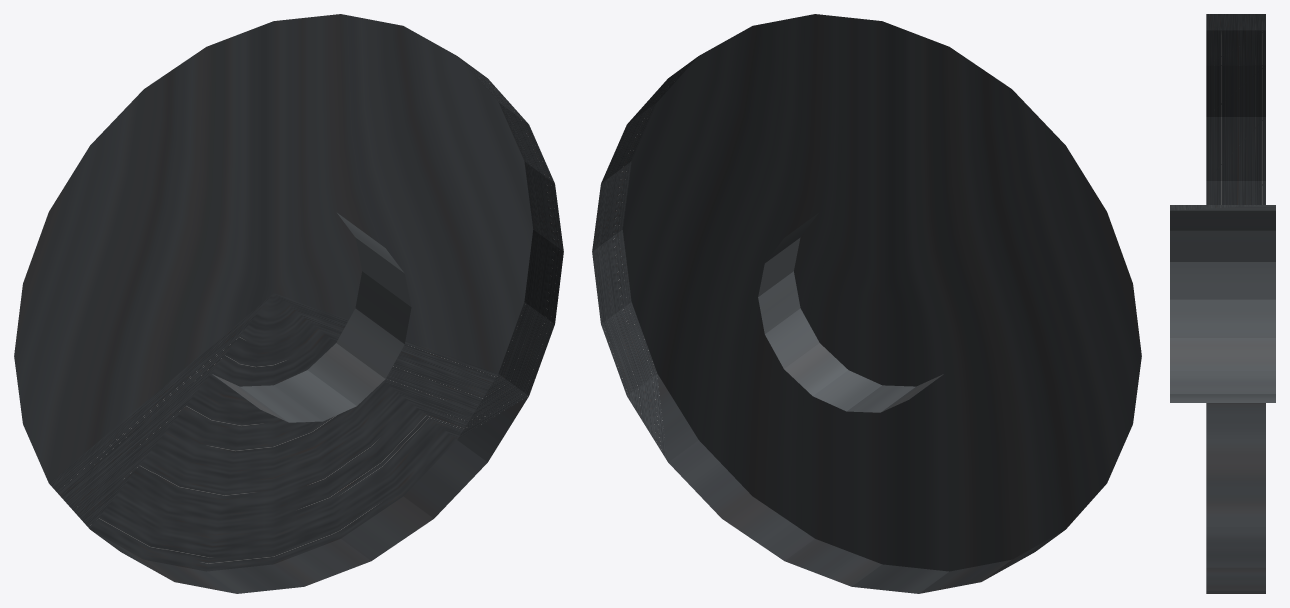
File: buckler.glb
3 views of the same model, side by side, from view 1: azimuth 30°, elevation 25°; view 2: azimuth 150°, elevation 25°; view 3: azimuth 270°, elevation 25° (orthographic). The views are drawn at different scales.
Visible parts, largest first — view 1: buckler; view 2: buckler; view 3: buckler.
Part boxes in pixels (<box>): buckler: <box>14,14,563,593</box>; buckler: <box>592,14,1141,593</box>; buckler: <box>1170,14,1275,593</box>.
Size of the model in its own units: 0.44 by 0.44 by 0.08.
2 materials, 2 textured.
